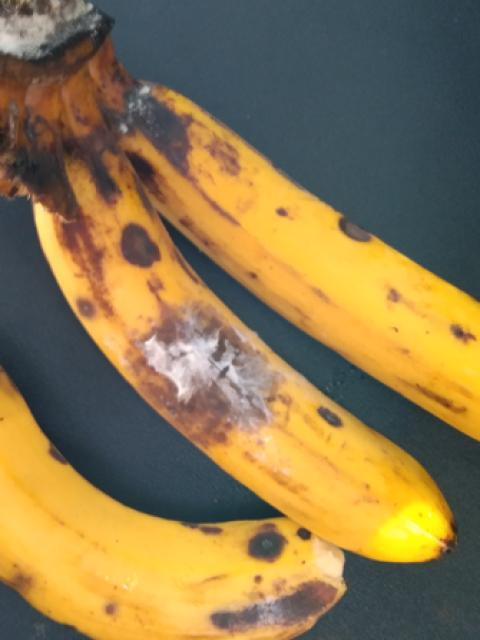overripe: (33, 144, 454, 568), (104, 84, 479, 435), (0, 375, 342, 639)
rotten: (78, 259, 309, 477)
